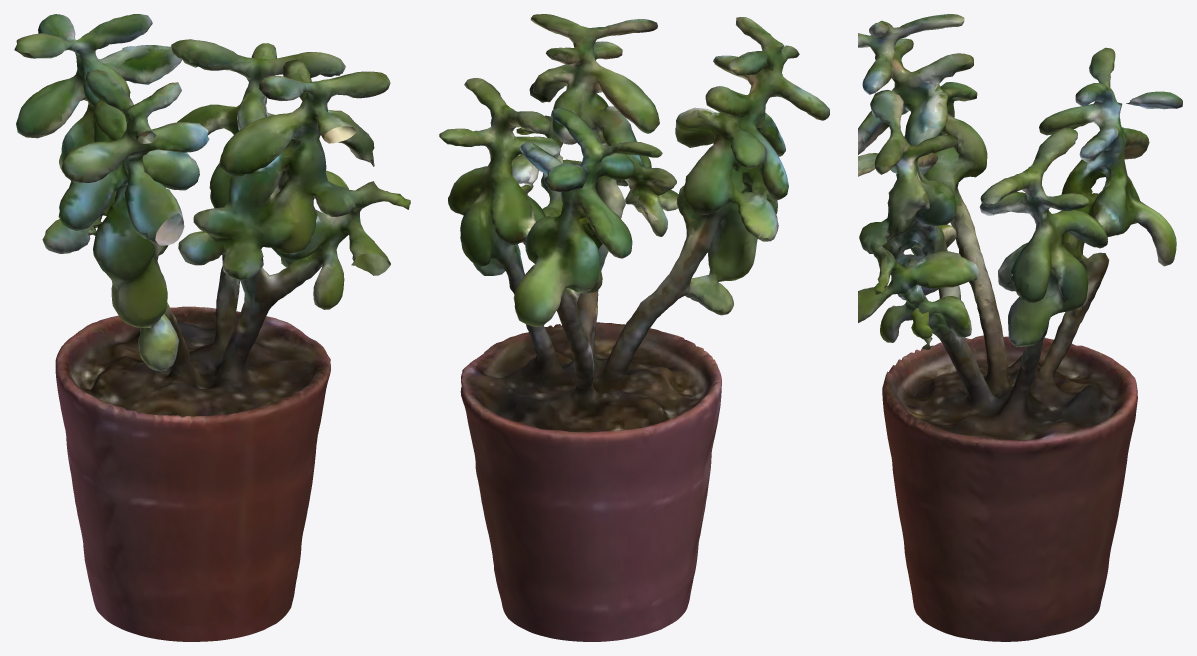
File: sf-jade-plant.glb
3 renders of one model, left to right at view 1: azimuth 30°, elevation 25°; view 2: azimuth 150°, elevation 25°; view 3: azimuth 270°, elevation 25°, orthographic. The views are drawn at different scales.
Parts seen in each view (by area): view 1: Object_2; view 2: Object_2; view 3: Object_2.
Part boxes in pixels (left/top/right/bottom): Object_2: left=14, top=14, right=410, bottom=641; Object_2: left=439, top=14, right=829, bottom=641; Object_2: left=858, top=14, right=1182, bottom=641.
Size of the model in its own units: 0.2101 by 0.35 by 0.1907.
Materials: 1 (1 with a texture image).
